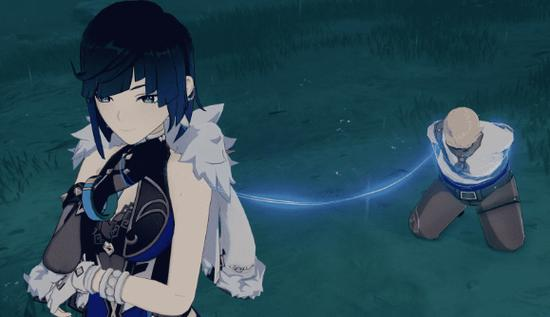夜兰: (27, 5, 214, 317)
